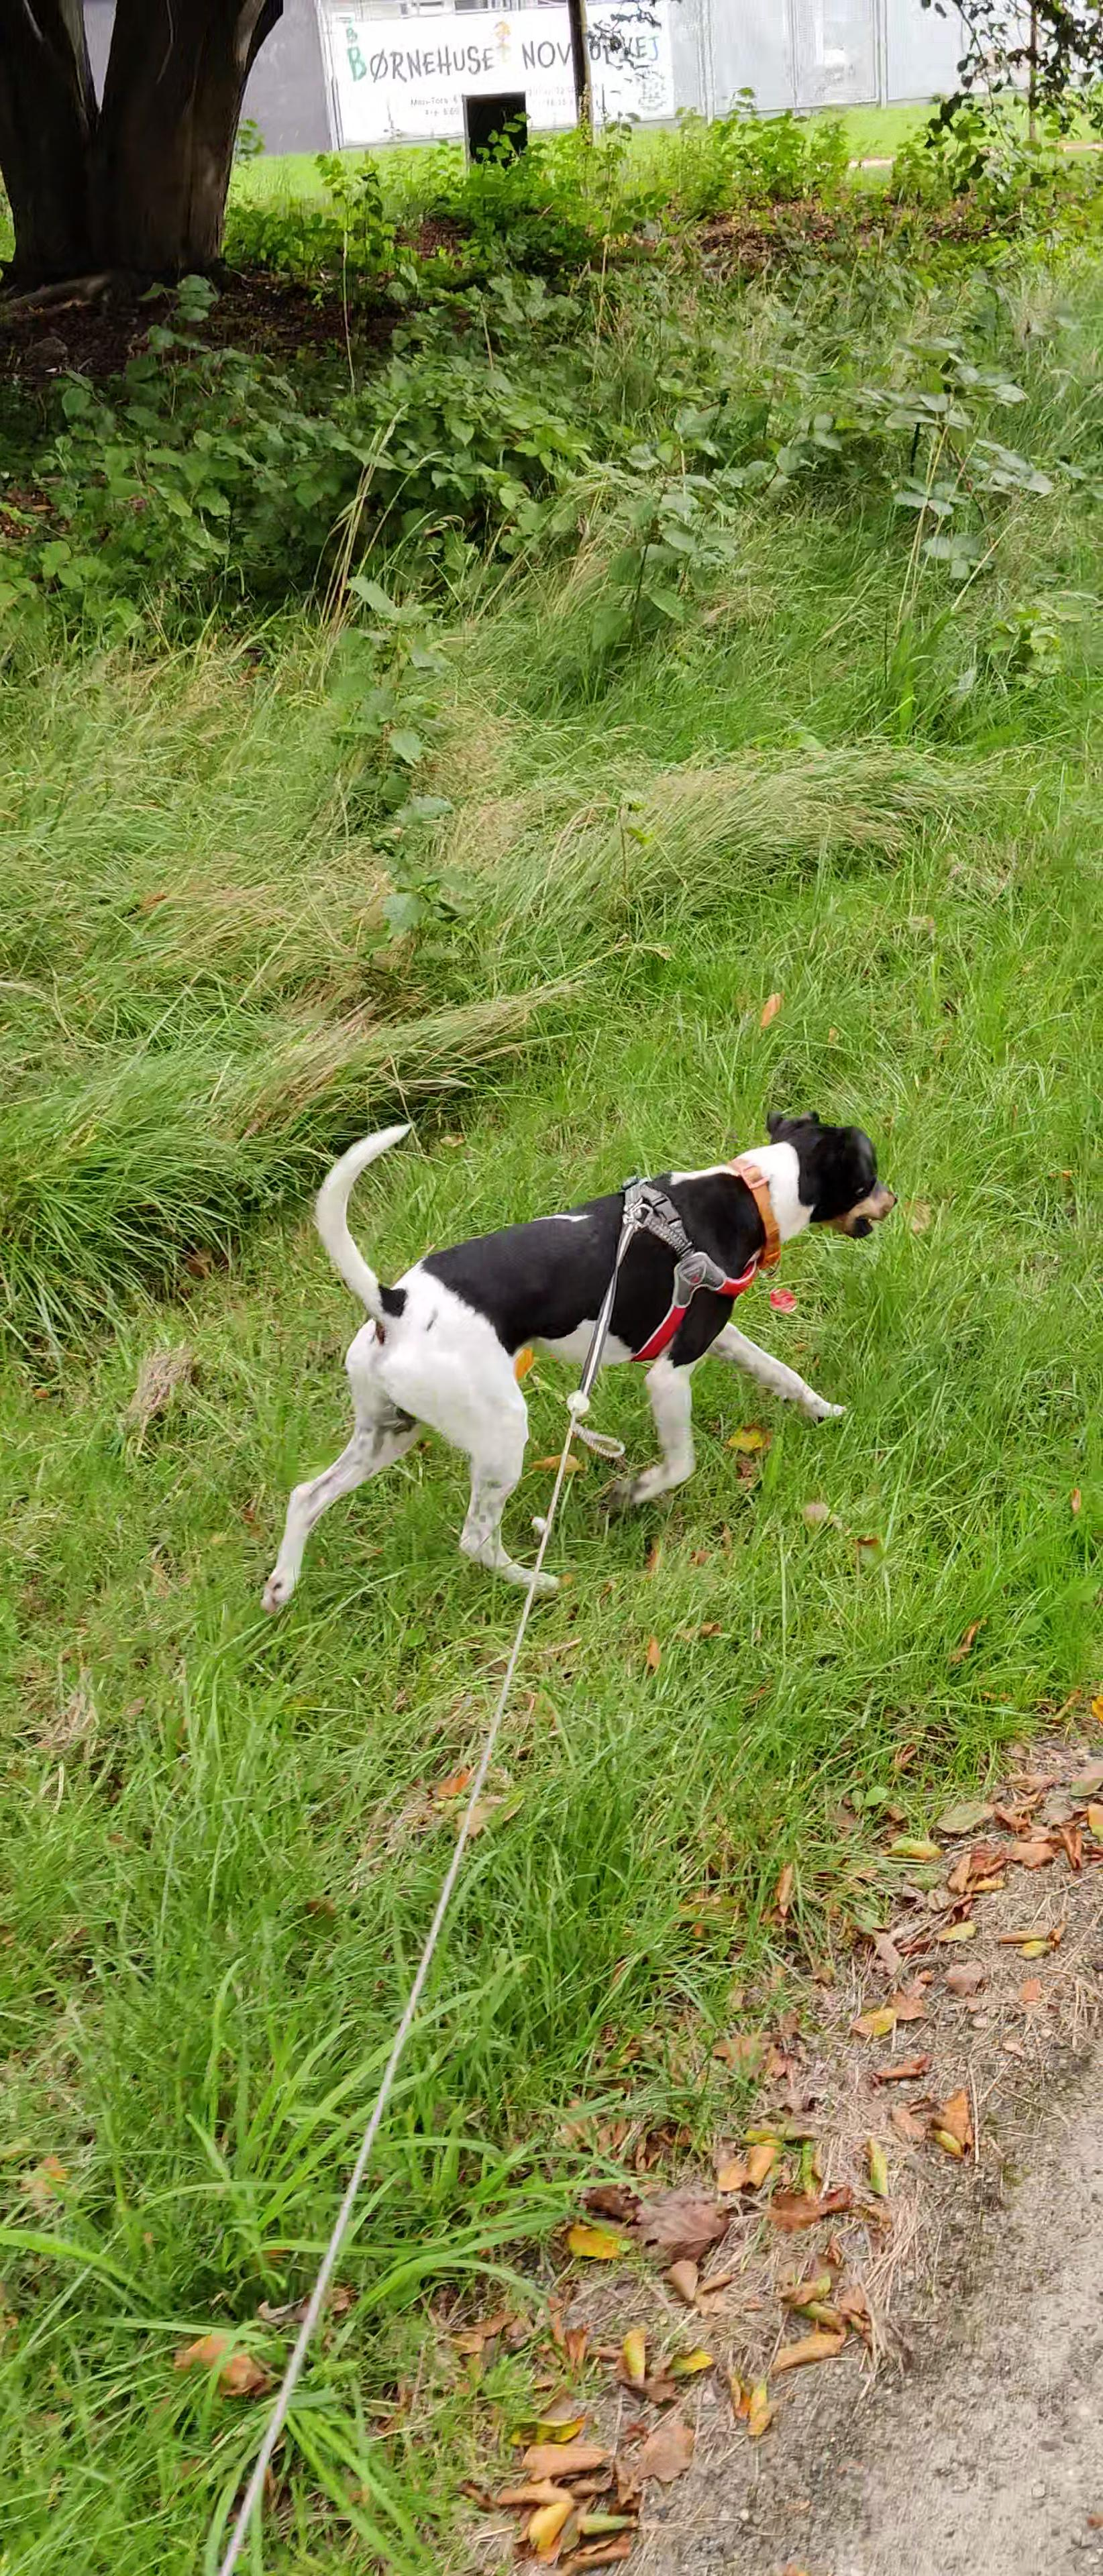Dog: (255, 1109, 901, 1626)
